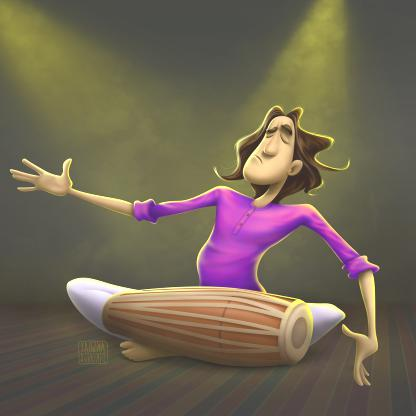Mridangam: (100, 282, 324, 373)
